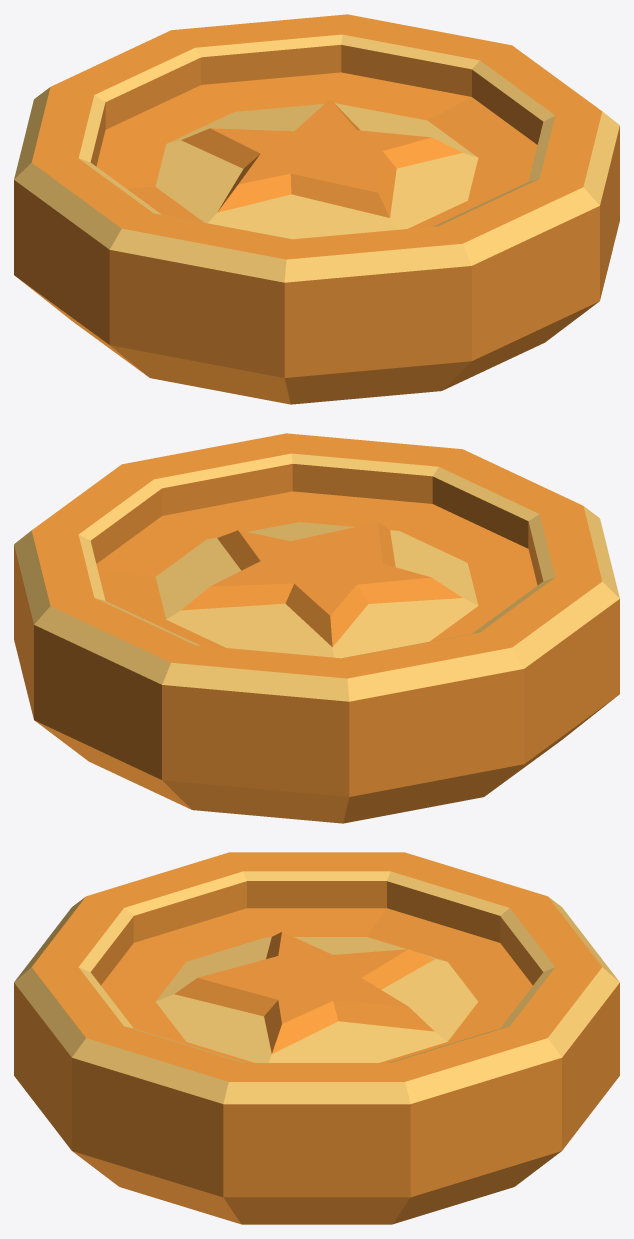
The model's file is Coin.fbx.
The picture shows the model from 3 angles, top to bottom: view 1: azimuth 30°, elevation 25°; view 2: azimuth 150°, elevation 25°; view 3: azimuth 270°, elevation 25°; orthographic projection. The views are drawn at different scales.
Parts seen in each view (by area): view 1: Coin; view 2: Coin; view 3: Coin.
Boxes of the visible parts, x1=… form: Coin: x1=14, y1=14, x2=619, y2=404; Coin: x1=14, y1=433, x2=619, y2=823; Coin: x1=14, y1=852, x2=619, y2=1224.
Size of the model in its own units: 64.15 by 19.55 by 67.46.
